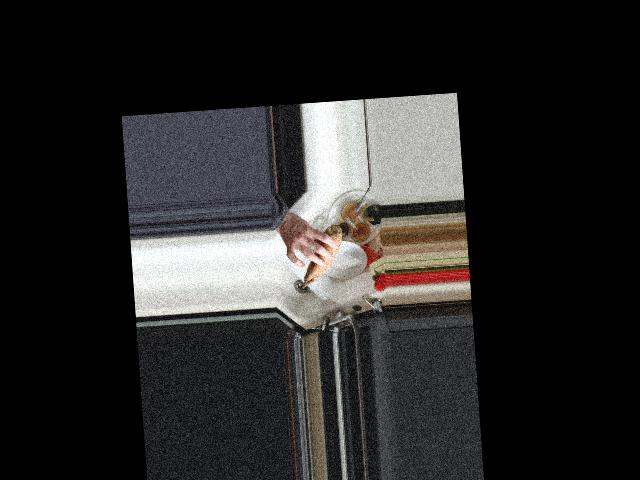sweet_potato: (297, 224, 346, 289)
